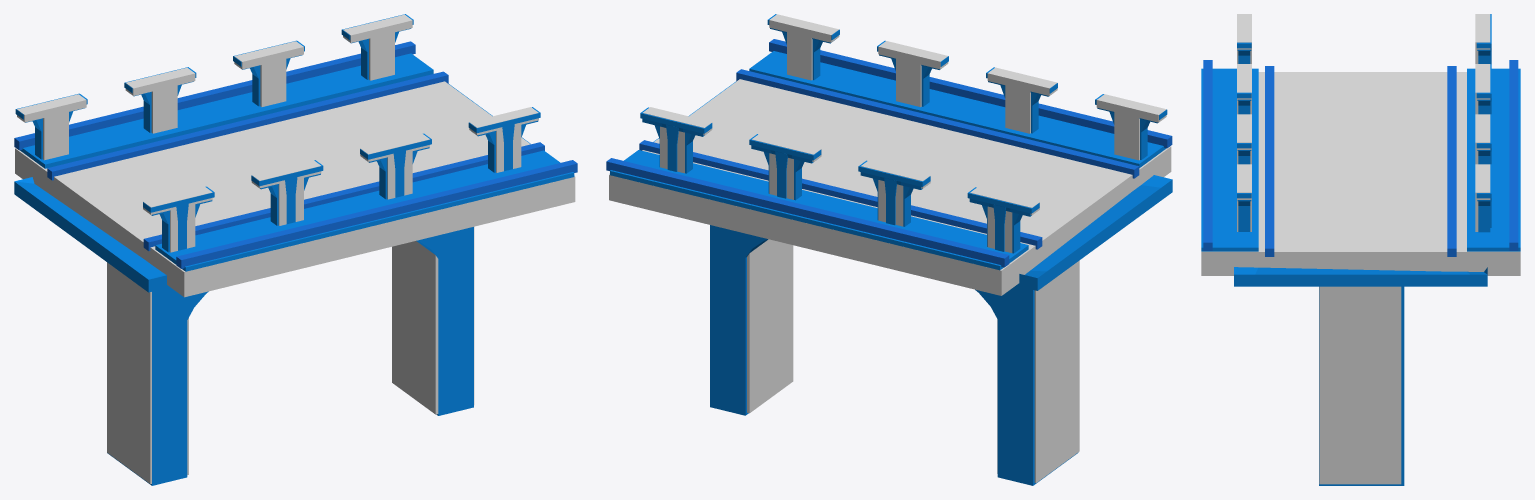
The model's file is Bridge.gltf.
3 views of the same model, side by side, from view 1: azimuth 30°, elevation 25°; view 2: azimuth 150°, elevation 25°; view 3: azimuth 270°, elevation 25° (orthographic). The views are drawn at different scales.
Visible parts, largest first — view 1: COL.003, 立方体, 立方体.001, 円, COL, COL.004, Cube, COL.001, COL.007; view 2: COL.003, 立方体, 立方体.001, 円, COL, COL.007, Cube, COL.001, COL.004; view 3: COL.003, 立方体, COL.001, 立方体.001, Cube, COL.004, COL.007, 円.
Part boxes in pixels (x1,y1,x2,y2): COL.003: (15,73,575,297); 立方体: (14,53,574,292); 立方体.001: (14,41,577,268); 円: (107,227,473,485); COL: (107,262,188,483); COL.004: (17,14,412,160); Cube: (15,14,540,252); COL.001: (392,227,474,414); COL.007: (143,107,538,252); COL.003: (609,79,1171,295); 立方体: (610,51,1172,290); 立方体.001: (606,39,1172,267); 円: (710,225,1078,485); COL: (997,260,1079,482); COL.007: (769,14,1166,160); Cube: (640,14,1167,253); COL.001: (747,239,793,413); COL.004: (643,107,1039,252); COL.003: (1201,72,1520,275); 立方体: (1201,68,1520,286); COL.001: (1319,286,1401,484); 立方体.001: (1203,60,1518,256); Cube: (1237,14,1491,232); COL.004: (1475,14,1490,231); COL.007: (1237,14,1251,231); 円: (1319,286,1404,485).
Size of the model in its own units: 12.87 by 9.27 by 8.85.
